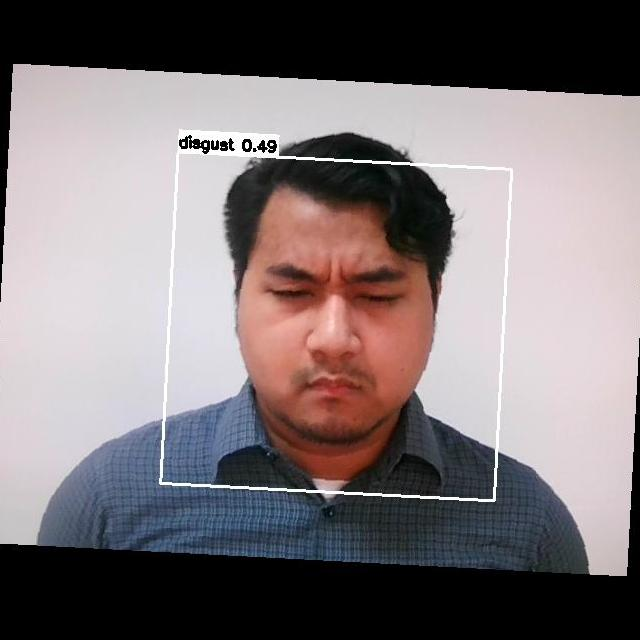Angry: (240, 244, 432, 422)
